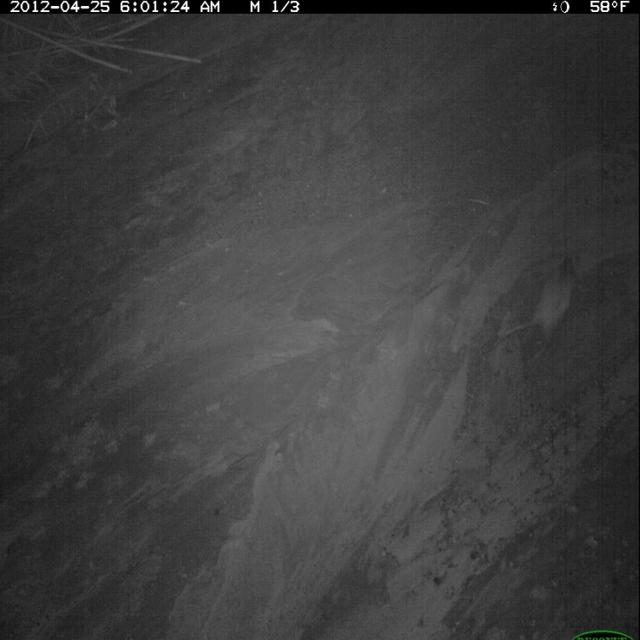opossum: (491, 250, 584, 365)
